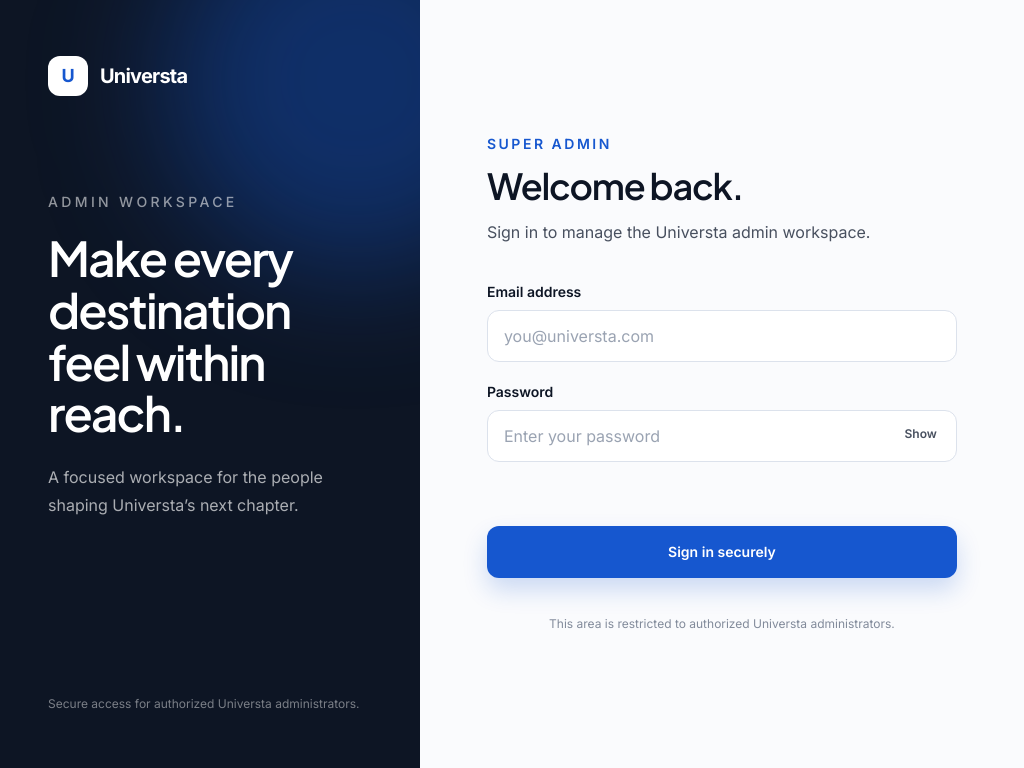
Test case: LoginScreen › validates the required password field
The image size is (1024, 768).
Type "admin@example.com" into the field labelled "Email address" at (722, 336), box [487,310,957,362]
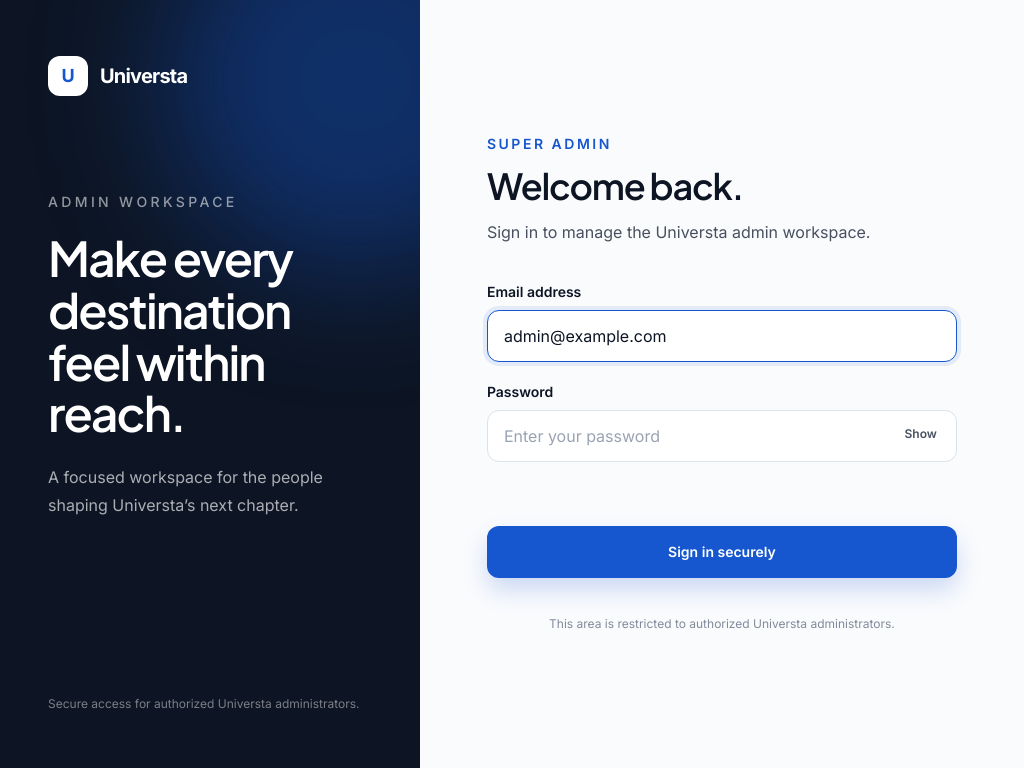
Click the button "Sign in securely" at (722, 552), box [487,526,957,578]
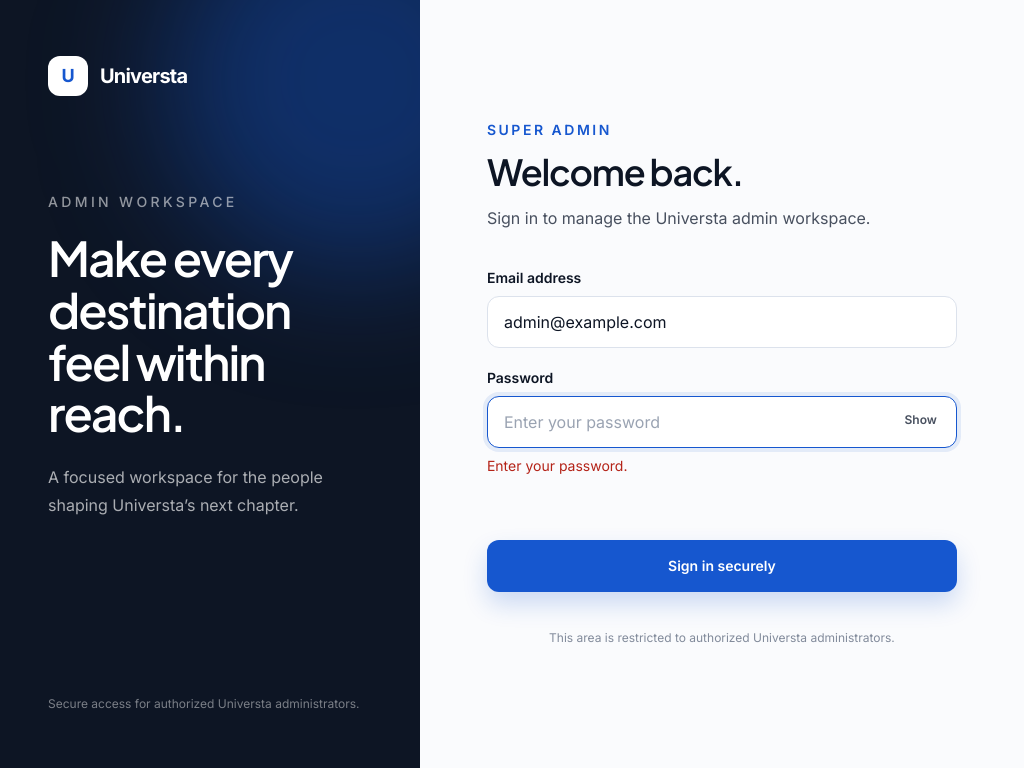
Now the text "Enter your password." is shown, box [487,457,628,474]
